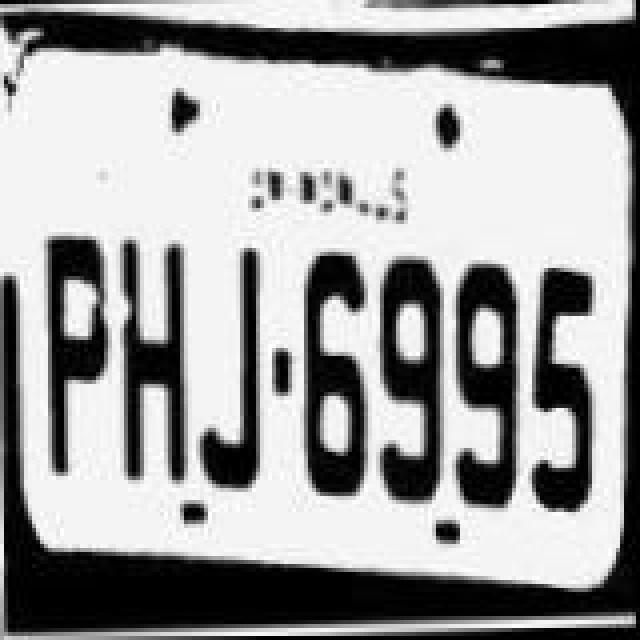5: (518, 260, 610, 520)
6: (300, 244, 376, 500)
9: (448, 250, 528, 518), (378, 246, 454, 510)
H: (106, 238, 194, 498)
J: (194, 238, 274, 498)
P: (40, 224, 124, 480)
